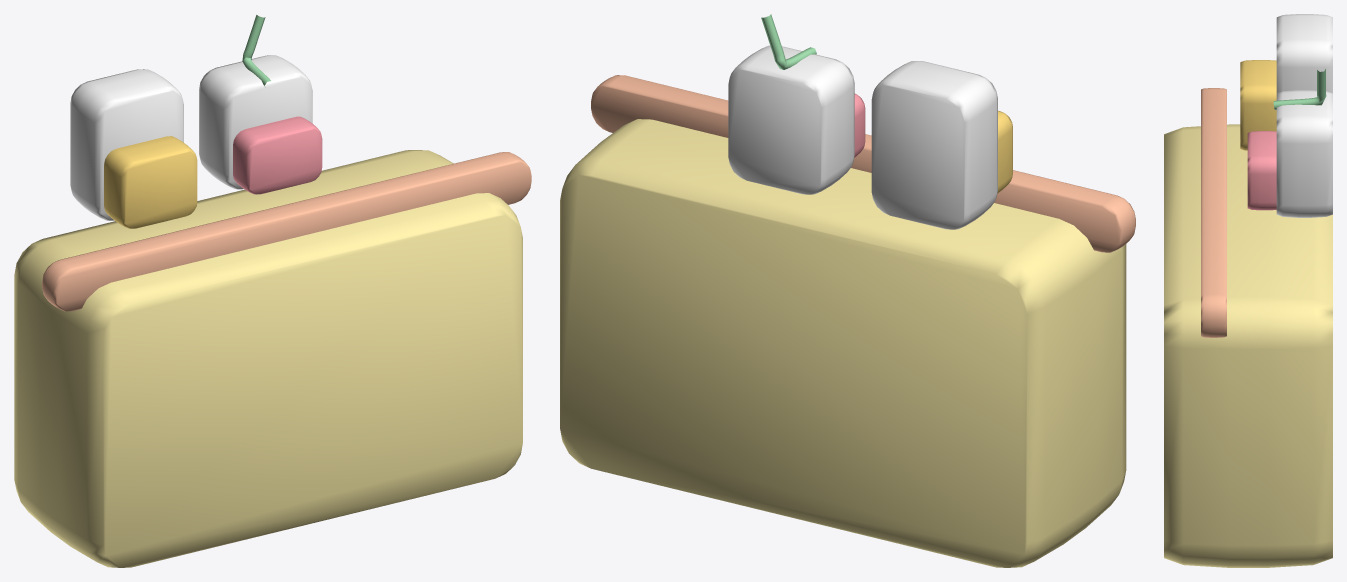
The model's file is decor_2_classic.glb.
3 views of the same model, side by side, from view 1: azimuth 30°, elevation 25°; view 2: azimuth 150°, elevation 25°; view 3: azimuth 270°, elevation 25° (orthographic). The views are drawn at different scales.
Parts seen in each view (by area): view 1: decor_2_classic; view 2: decor_2_classic; view 3: decor_2_classic.
Boxes of the visible parts, x1,y1,x2,y2 form: decor_2_classic: (14,15,531,567); decor_2_classic: (560,14,1135,567); decor_2_classic: (1164,14,1332,567).
Bounding box in the file's own units: 17.1 × 15.36 × 5.51.
